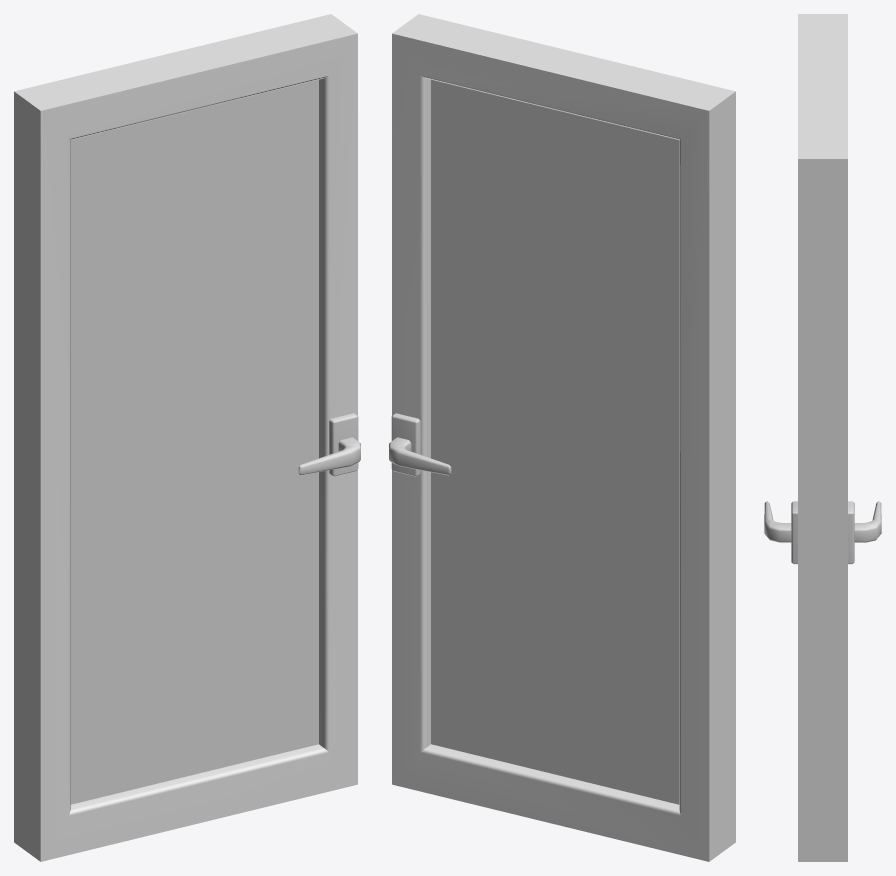
Rendered from door_032.fbx.
3 views of the same model, side by side, from view 1: azimuth 30°, elevation 25°; view 2: azimuth 150°, elevation 25°; view 3: azimuth 270°, elevation 25° (orthographic). The views are drawn at different scales.
Parts seen in each view (by area): view 1: door_032; view 2: door_032; view 3: door_032.
Boxes of the visible parts, box(x1,y1,x2,y2) form: door_032: box(14, 14, 360, 861); door_032: box(389, 14, 735, 861); door_032: box(764, 14, 881, 861).
Size of the model in its own units: 95.15 by 32.58 by 215.
